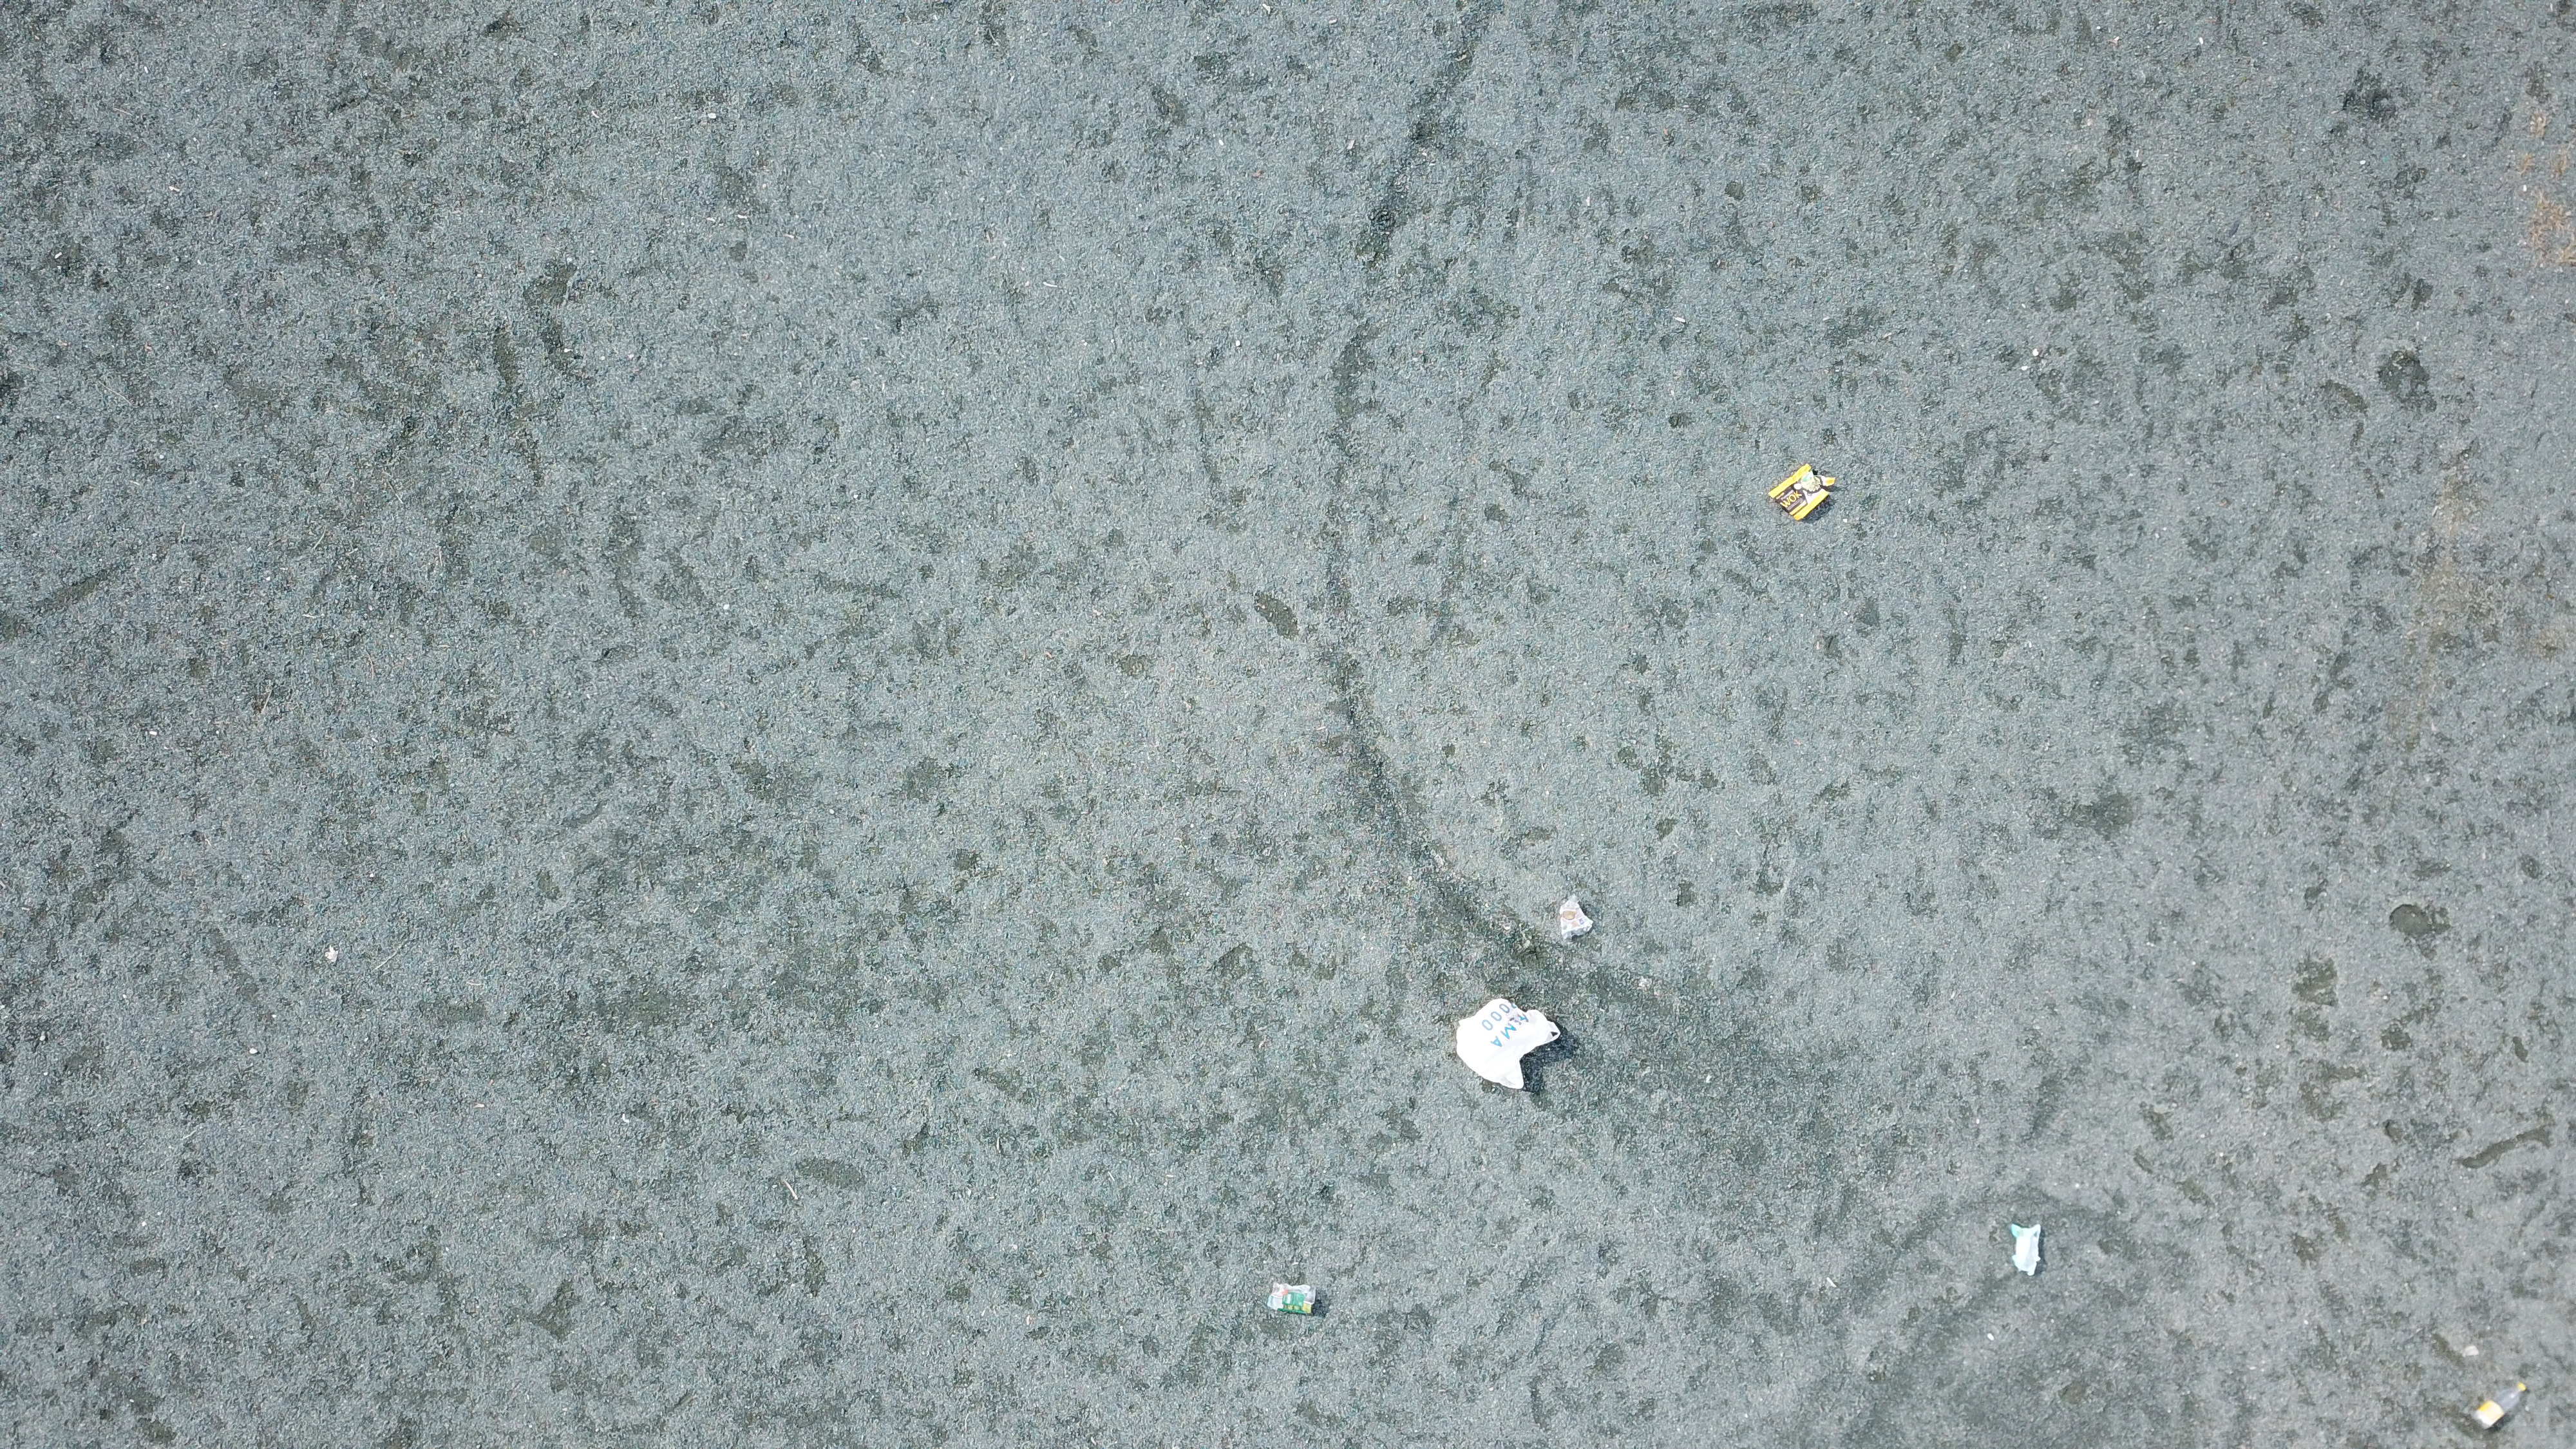Plastic: (1449, 991, 1569, 1099), (1769, 462, 1842, 522), (1258, 1277, 1325, 1316), (2003, 1223, 2049, 1279), (1550, 888, 1596, 939)
PlasticBottle: (2472, 1380, 2528, 1431)
